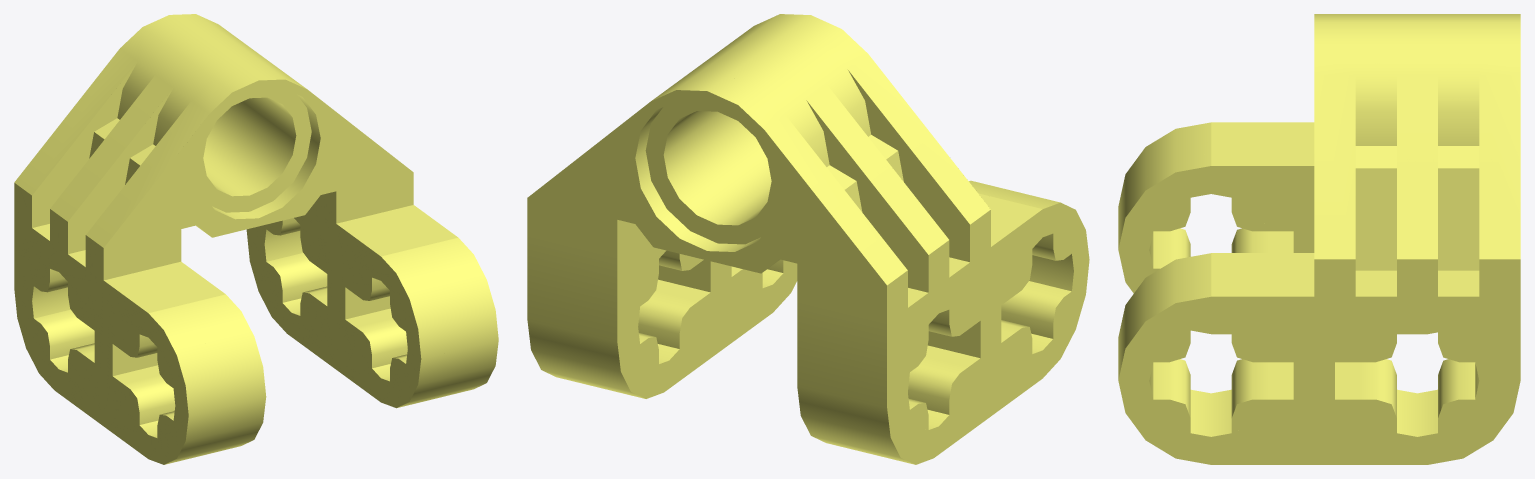
The picture shows the model from 3 angles, left to right: view 1: azimuth 30°, elevation 25°; view 2: azimuth 150°, elevation 25°; view 3: azimuth 270°, elevation 25°; orthographic projection. The views are drawn at different scales.
Visible parts, largest first — view 1: 92907.dat; view 2: 92907.dat; view 3: 92907.dat.
Part boxes in pixels (<box>): 92907.dat: <box>14,14,498,464</box>; 92907.dat: <box>527,14,1089,464</box>; 92907.dat: <box>1118,14,1520,464</box>.
Size of the model in its own units: 0.016 by 0.0152 by 0.0156.
